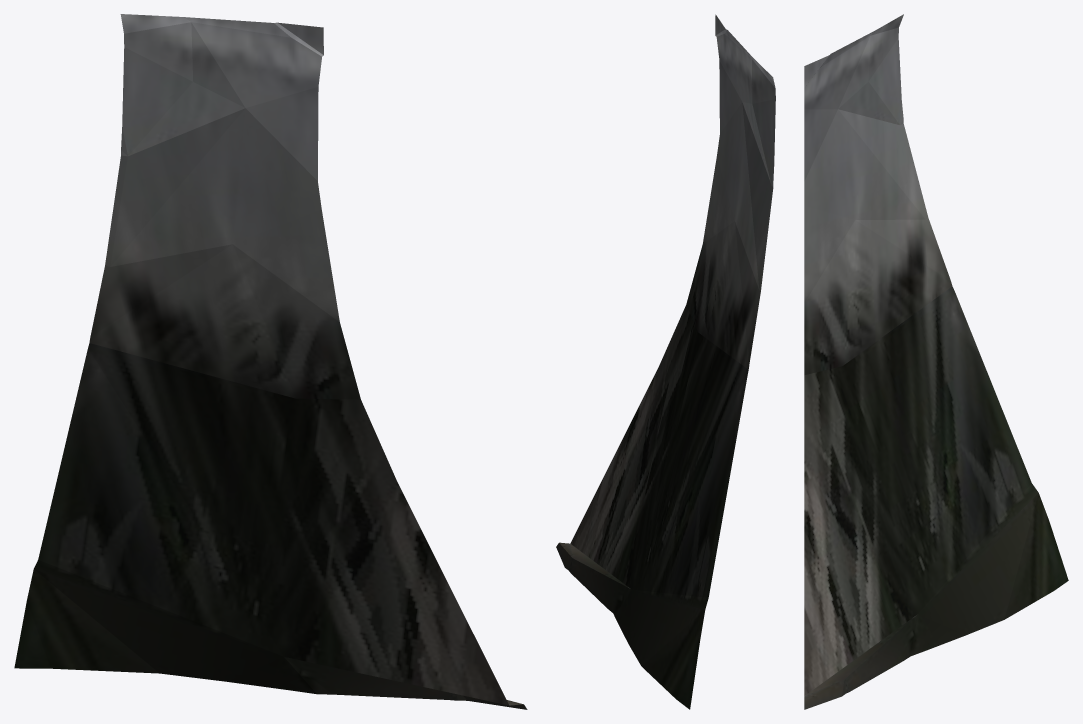
3 views of the same model, side by side, from view 1: azimuth 30°, elevation 25°; view 2: azimuth 150°, elevation 25°; view 3: azimuth 270°, elevation 25° (orthographic). The views are drawn at different scales.
Bounding box in the file's own units: 0.4098 × 0.8374 × 0.3542.
Materials: 1 (1 with a texture image).
